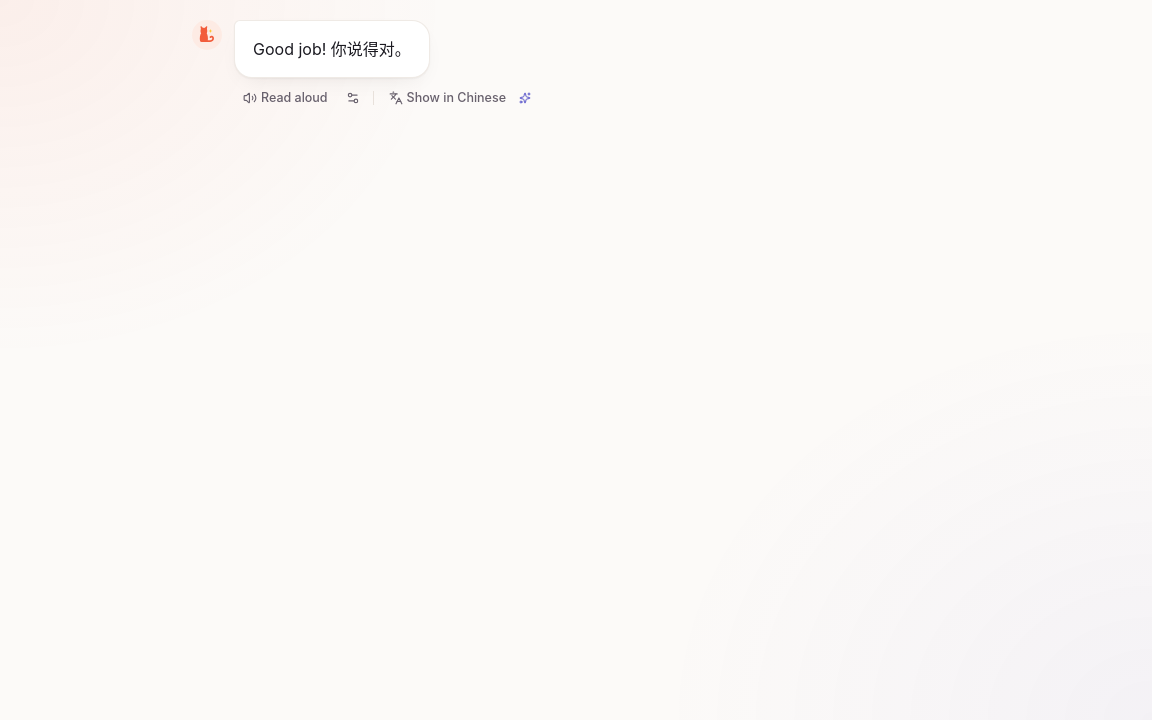
Scenario: ReplyTools › opens the read-aloud settings from the gear next to “Read aloud”
This screenshot has width=1152, height=720.
Click the button named "Read-aloud settings" at (353, 98), box x1=339 y1=84 x2=367 y2=112
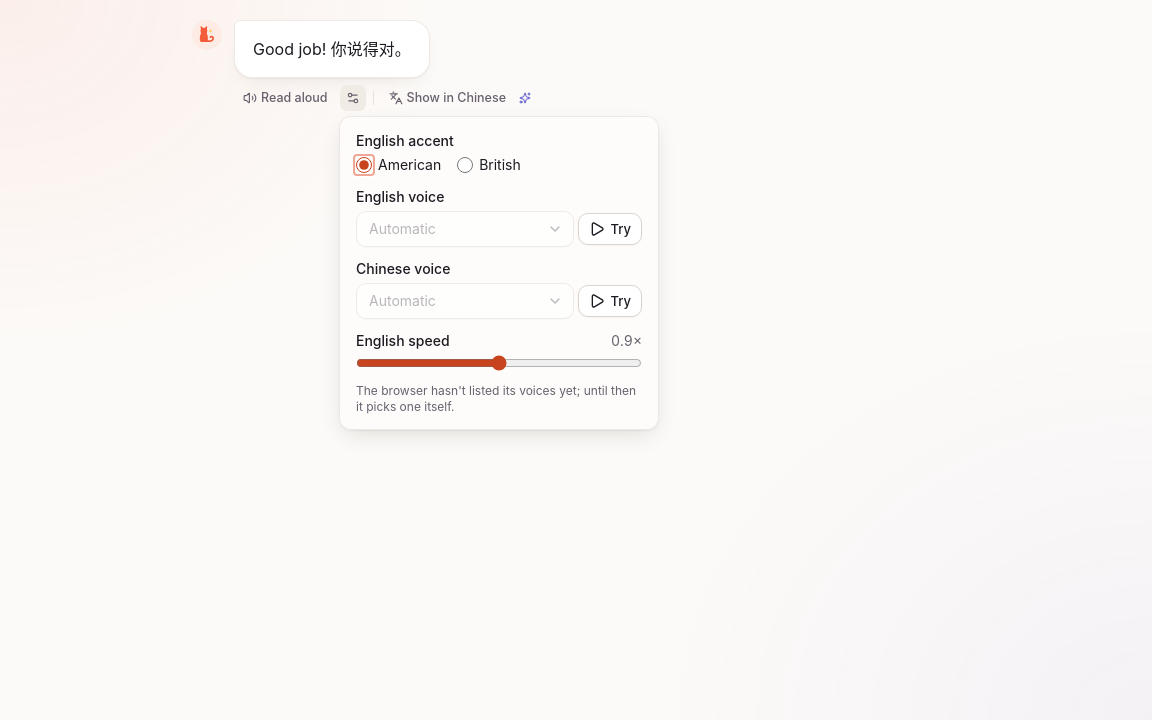
Now the element with test id "speech-settings" is shown, box x1=356 y1=131 x2=642 y2=415
Now the slider labelled "English speed 0.9×" is shown, box x1=356 y1=355 x2=642 y2=371
